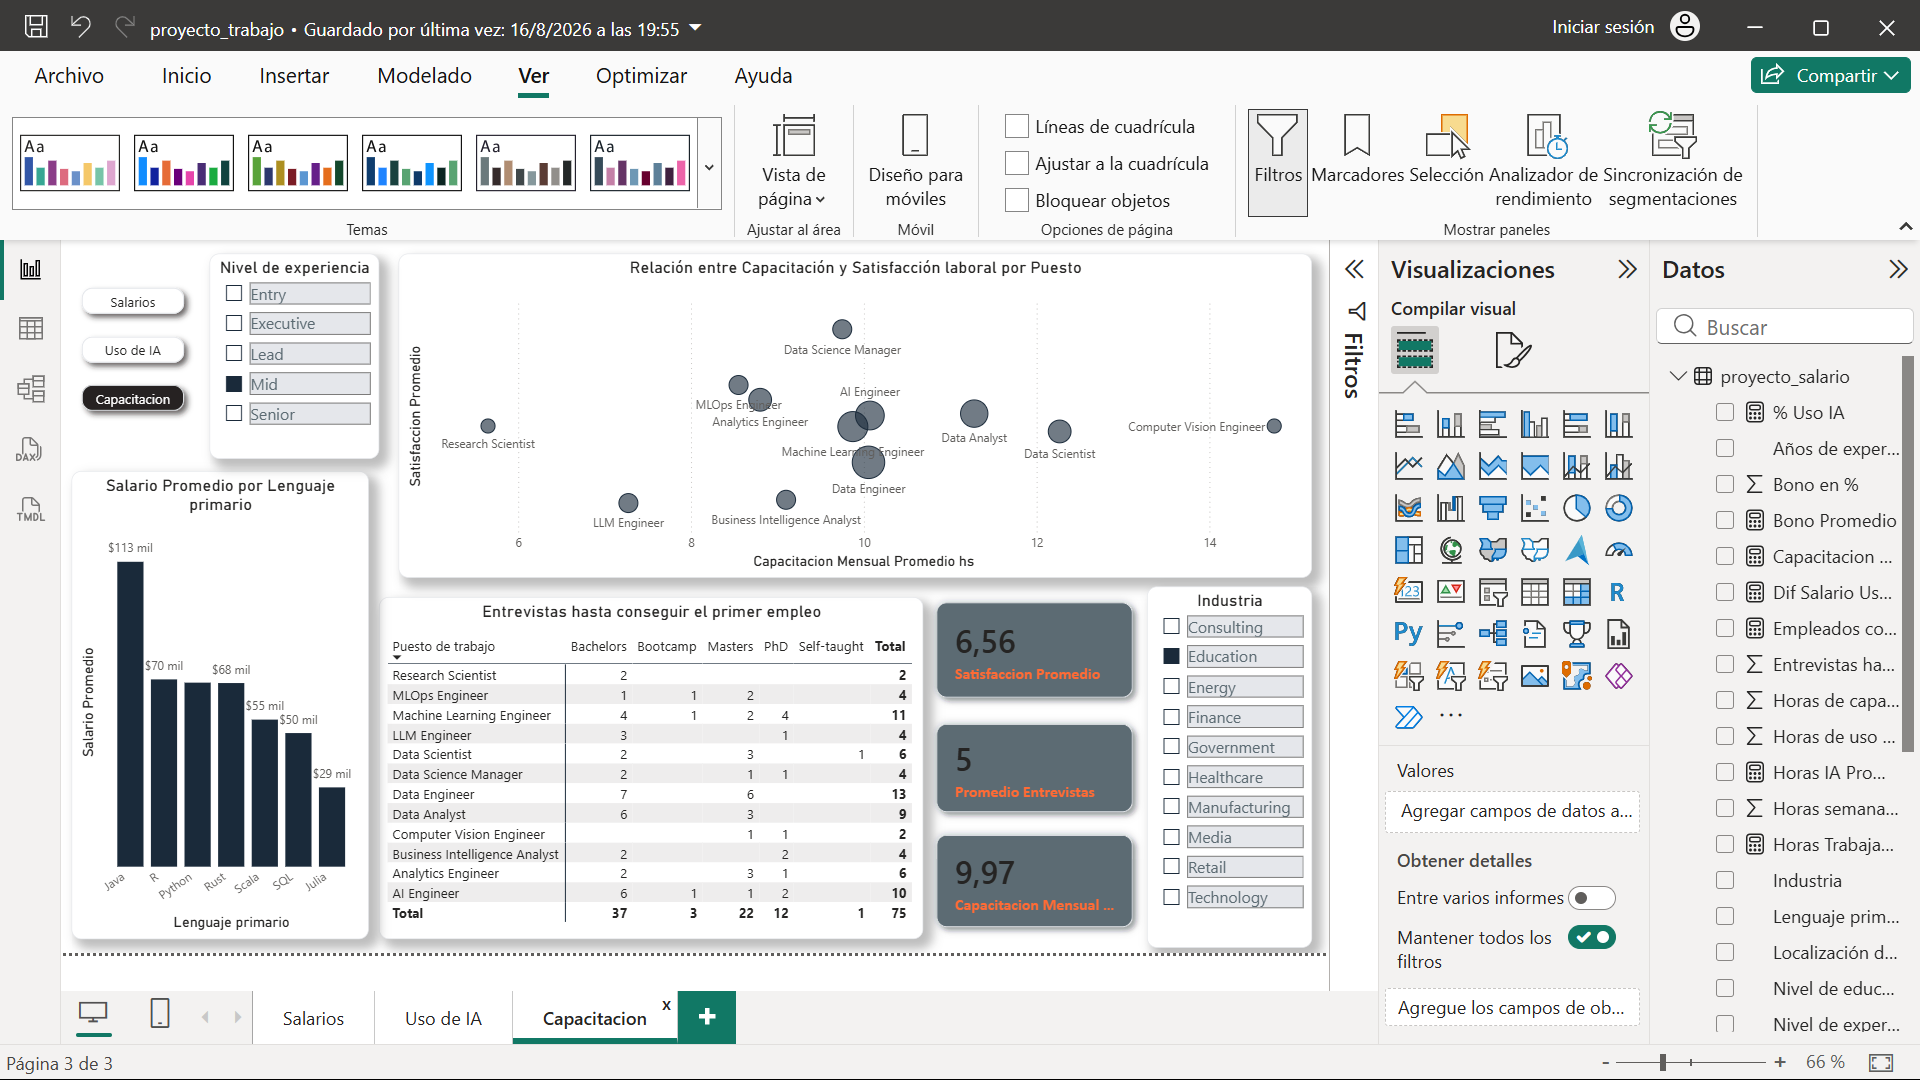

The dashboard page shown, as its layout file describes it:
{"tool":"powerbi","page":{"name":"Capacitacion","canvas":[1280,720],"ordinal":2},"visuals":[{"type":"pivotTable","title":"Entrevistas hasta conseguir el primer empleo","fields":{"Rows":["proyecto_salario.Puesto de trabajo"],"Columns":["proyecto_salario.Nivel de educacion "],"Values":["CountNonNull(proyecto_salario.Entrevistas hasta recibir una oferta laboral)"]},"box":[321,360.4,549.7,345.2],"z":0},{"type":"scatterChart","title":"Relación entre Capacitación y Satisfacción laboral por Puesto","fields":{"Y":["proyecto_salario.Satisfaccion Promedio"],"Size":["proyecto_salario.Total Empleados"],"X":["proyecto_salario.Capacitacion Mensual Promedio"],"Series":["proyecto_salario.Puesto de trabajo"]},"box":[340.7,13.6,922.2,327.1],"z":1000},{"type":"cardVisual","fields":{"Data":["proyecto_salario.Promedio Entrevistas"]},"box":[858.6,463.3,248.3,139.3],"z":2000},{"type":"cardVisual","fields":{"Data":["proyecto_salario.Capacitacion Mensual Promedio"]},"box":[858.6,575.4,248.3,143.8],"z":3000},{"type":"cardVisual","fields":{"Data":["proyecto_salario.Satisfaccion Promedio"]},"box":[858.6,340.7,248.3,146.9],"z":4000},{"type":"clusteredColumnChart","title":"Salario Promedio por Lenguaje primario","fields":{"Category":["proyecto_salario.Lenguague primario"],"Y":["proyecto_salario.Salario Promedio"]},"box":[10.6,233.2,299.8,472.4],"z":5000},{"type":"slicer","title":"Industria","fields":{"Values":["proyecto_salario.Industria"]},"box":[1096.3,349.8,166.6,364.9],"z":6000},{"type":"slicer","title":"Nivel de experiencia","fields":{"Values":["proyecto_salario.Nivel de experiencia"]},"box":[149.9,13.6,171.1,207.4],"z":7000},{"type":"pageNavigator","box":[10.6,37.9,124.2,146.9],"z":8000}]}

Visuals, with their boxes on the page's 1280x720 design canvas (x1, y1, x2, y2). These are canvas units, not pixel positions in the 1920x1080 screenshot, which may show the page scaled, cropped or inside an application window:
"Entrevistas hasta conseguir el primer empleo" pivotTable: Rect(321, 360, 871, 706)
"Relación entre Capacitación y Satisfacción laboral por Puesto" scatterChart: Rect(341, 14, 1263, 341)
cardVisual - proyecto_salario.Promedio Entrevistas: Rect(859, 463, 1107, 603)
cardVisual - proyecto_salario.Capacitacion Mensual Promedio: Rect(859, 575, 1107, 719)
cardVisual - proyecto_salario.Satisfaccion Promedio: Rect(859, 341, 1107, 488)
"Salario Promedio por Lenguaje primario" clusteredColumnChart: Rect(11, 233, 310, 706)
"Industria" slicer: Rect(1096, 350, 1263, 715)
"Nivel de experiencia" slicer: Rect(150, 14, 321, 221)
pageNavigator: Rect(11, 38, 135, 185)
